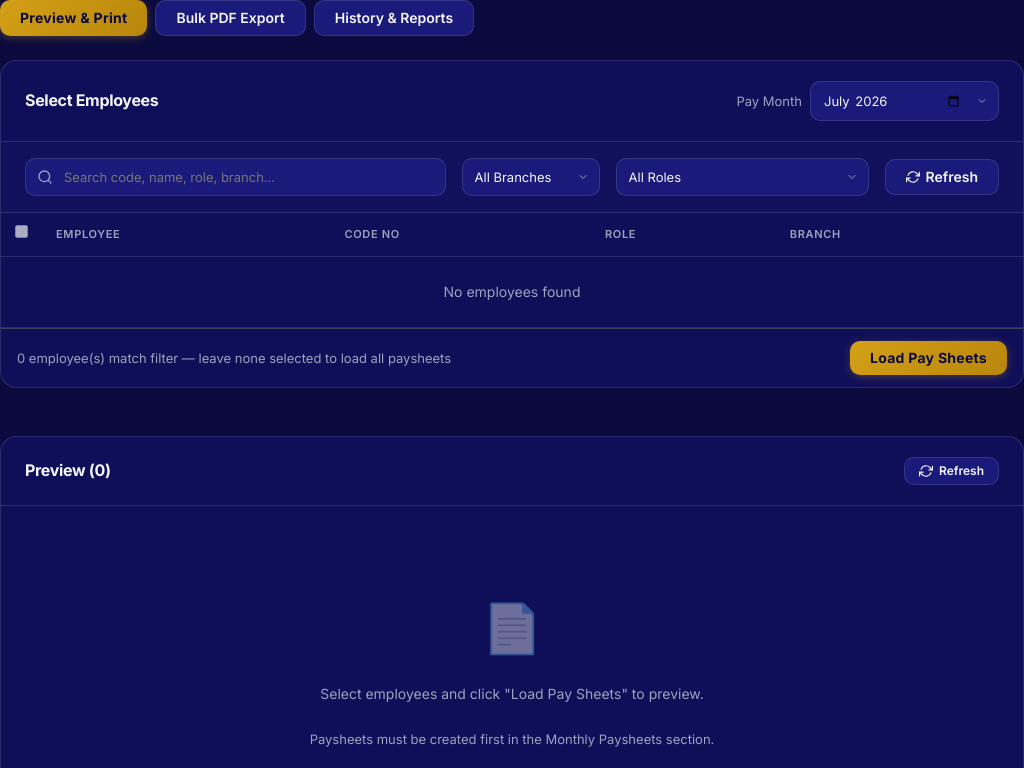
Test: Payroll page — tabs › switches to Bulk PDF tab when clicked
Click the button "Bulk PDF Export" at (231, 18), box top-left (156, 0), bottom-right (306, 36)
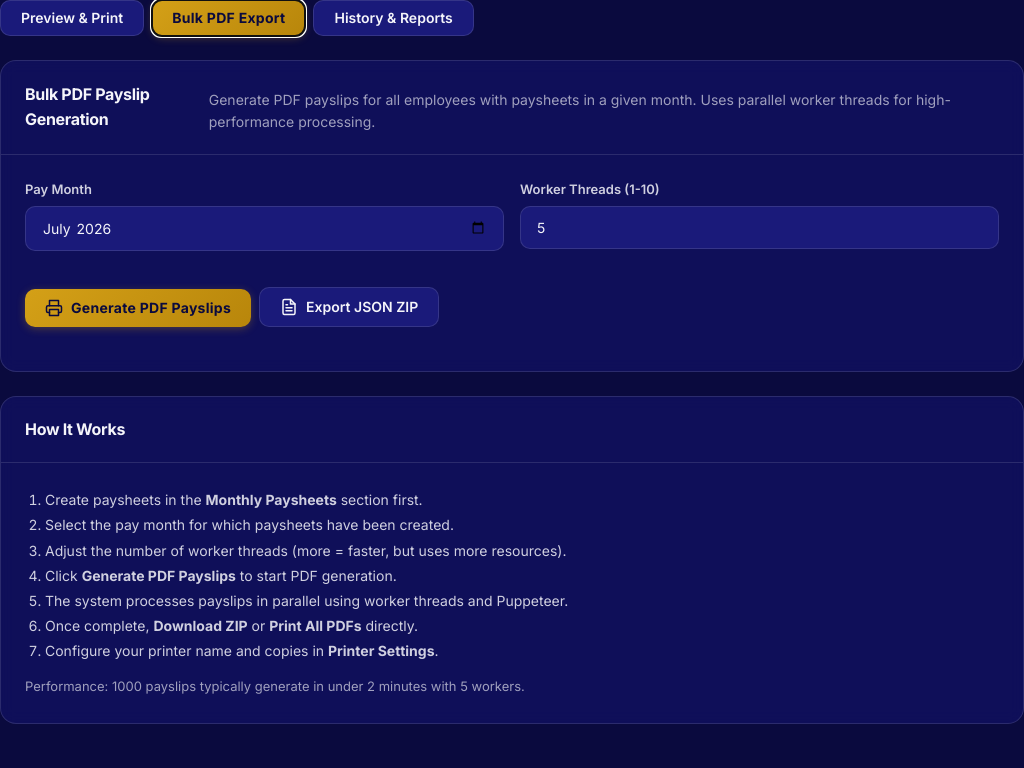
Check: the heading "Bulk PDF Payslip Generation" is shown, box top-left (25, 84), bottom-right (150, 129)
